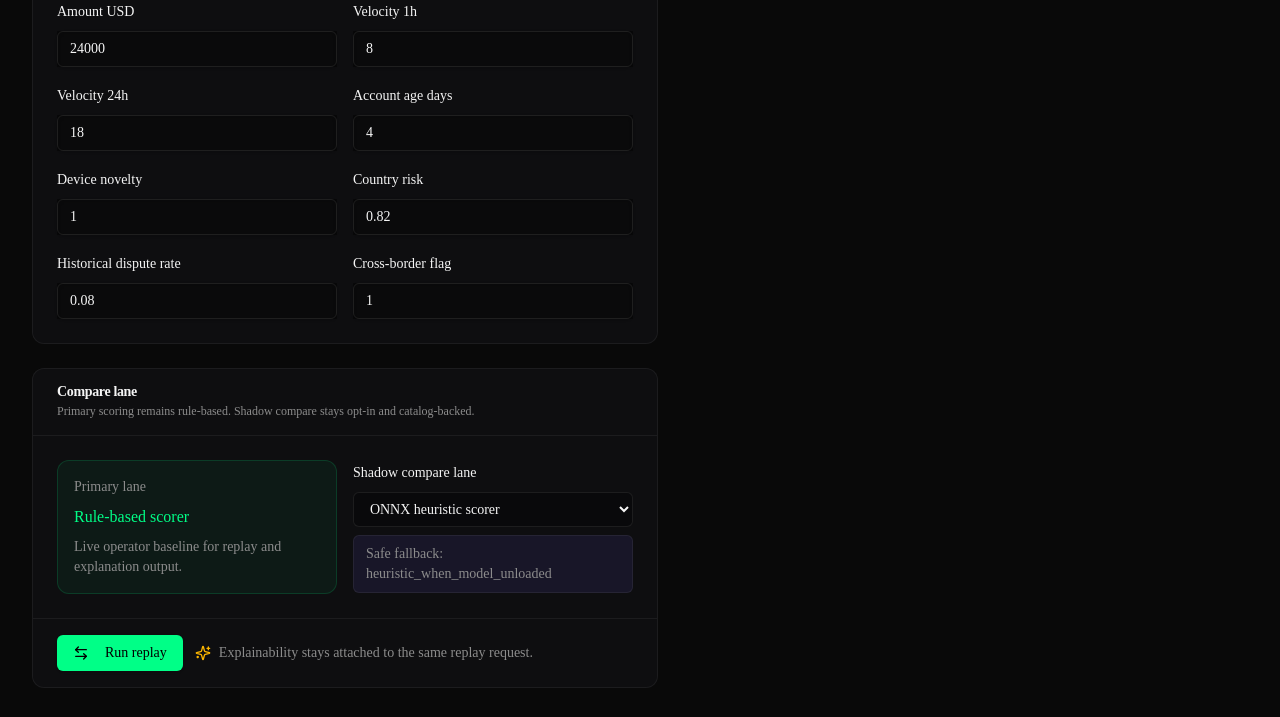
RiskLabPage › shows a replay loading state while waiting for compare results
(page scrolled)
Click the button "Run replay". click: click(120, 653)
box: top-left (57, 635), bottom-right (183, 671)
(page scrolled)
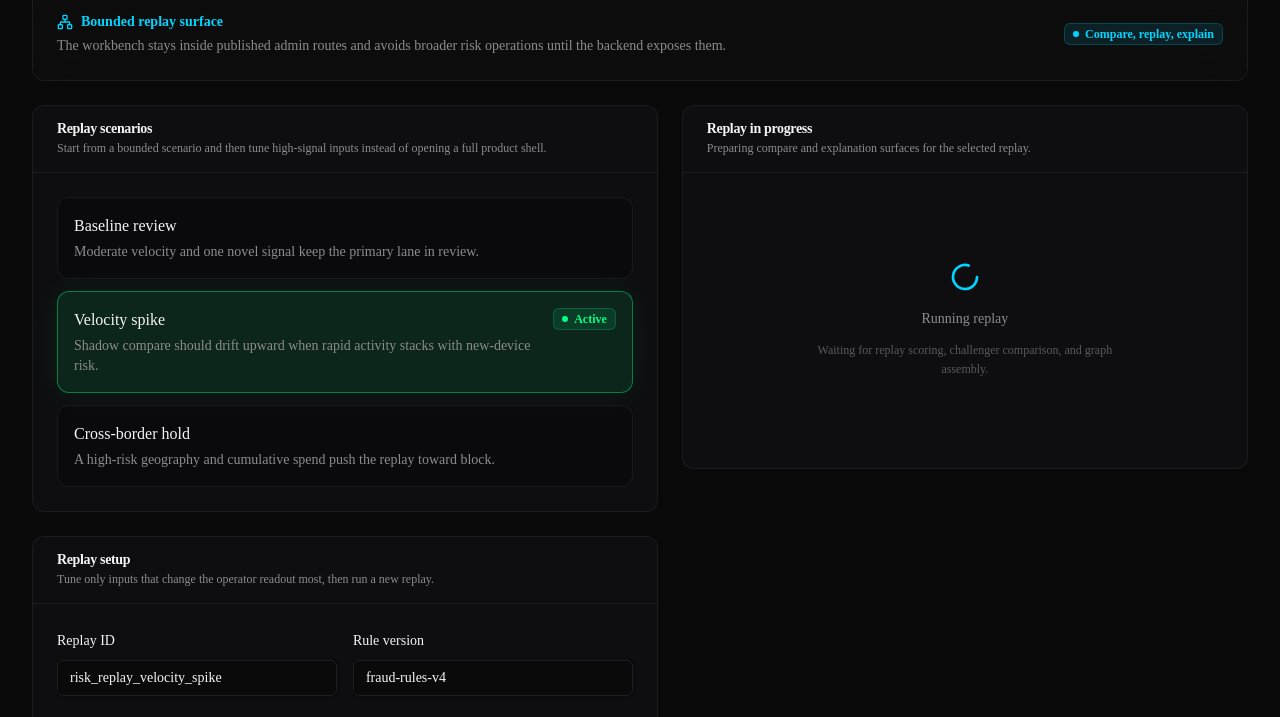
expect the text "Waiting for replay scoring, challenger comparison, and graph assembly" is shown: met, box top-left (818, 343), bottom-right (1112, 376)
